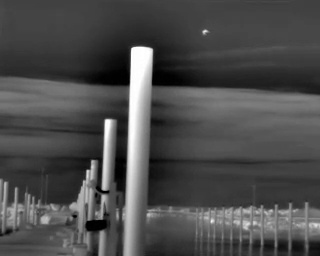BIRD: (200, 26, 211, 38)
